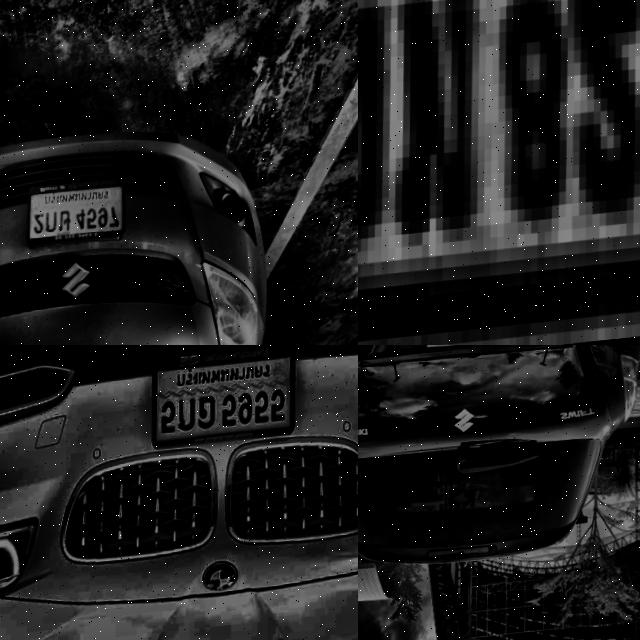license-plate: (358, 0, 640, 345), (149, 345, 299, 457), (26, 179, 129, 254), (423, 345, 510, 360)
